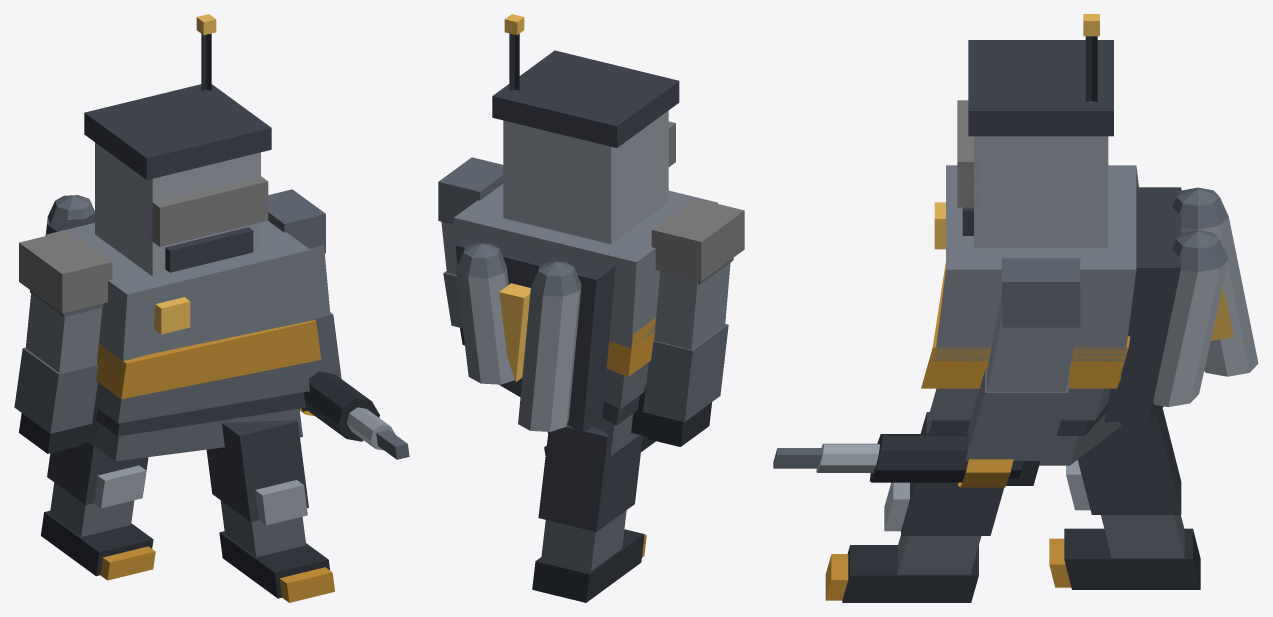
The model's file is engineer-walk-2.obj.
3 renders of one model, left to right at view 1: azimuth 30°, elevation 25°; view 2: azimuth 150°, elevation 25°; view 3: azimuth 270°, elevation 25°, orthographic. The views are drawn at different scales.
Visible parts, largest first — view 1: engineer-walk-2; view 2: engineer-walk-2; view 3: engineer-walk-2.
Part boxes in pixels (x1,y1,x2,y2): engineer-walk-2: [14, 14, 409, 602]; engineer-walk-2: [438, 14, 744, 602]; engineer-walk-2: [773, 14, 1258, 602].
Bounding box in the file's own units: 1.31 × 2.4 × 1.73.
